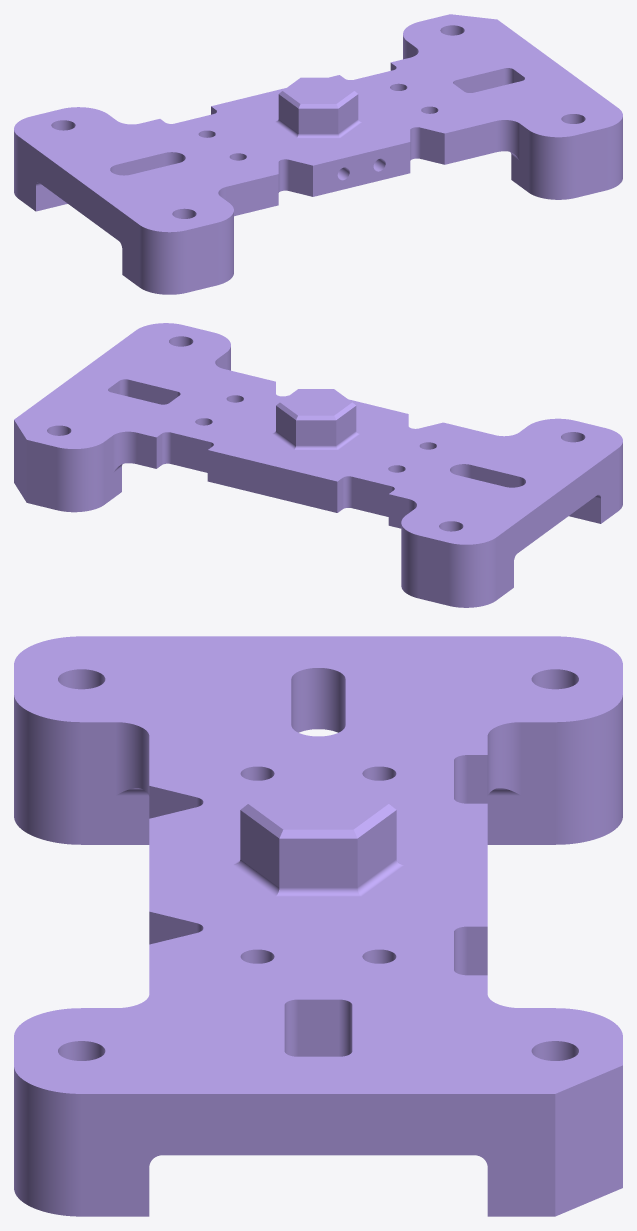
File: nist_ctc_01_asme1_ap242-e1.glb
The picture shows the model from 3 angles, top to bottom: view 1: azimuth 30°, elevation 25°; view 2: azimuth 150°, elevation 25°; view 3: azimuth 270°, elevation 25°; orthographic projection. The views are drawn at different scales.
Parts seen in each view (by area): view 1: =>[0:1:1:2]; view 2: =>[0:1:1:2]; view 3: =>[0:1:1:2].
Boxes of the visible parts, x1,y1,x2,y2 form: =>[0:1:1:2]: (14,14,622,294); =>[0:1:1:2]: (14,323,622,607); =>[0:1:1:2]: (14,636,622,1216).
Size of the model in its own units: 0.8 by 0.15 by 0.45.
